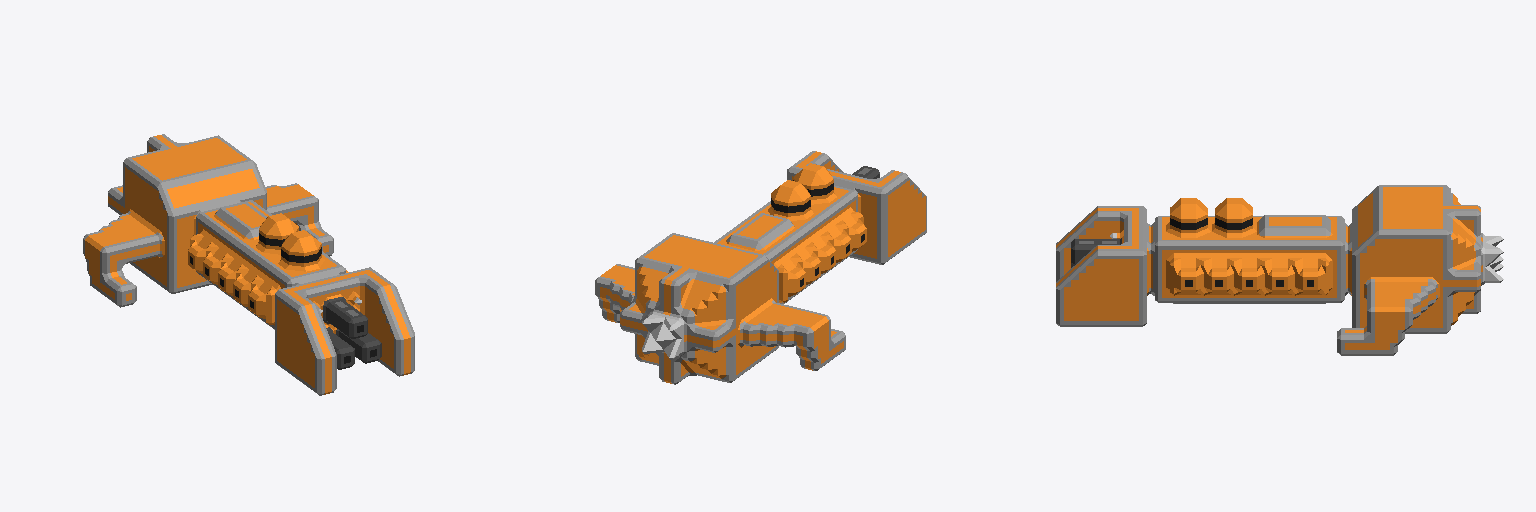
3 views of the same model, side by side, from view 1: azimuth 30°, elevation 25°; view 2: azimuth 150°, elevation 25°; view 3: azimuth 270°, elevation 25° (orthographic).
Size of the model in its own units: 33 by 16 by 59.
1 materials, 1 textured.